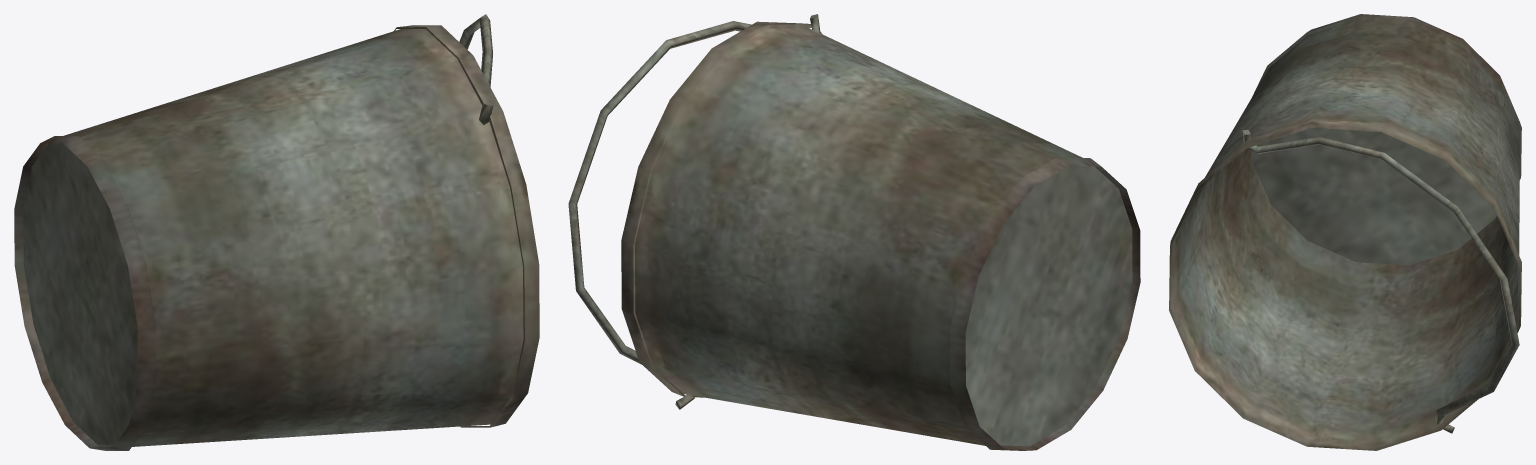
Rendered from prop_metal_pail3.glb.
3 renders of one model, left to right at view 1: azimuth 30°, elevation 25°; view 2: azimuth 150°, elevation 25°; view 3: azimuth 270°, elevation 25°, orthographic. The views are drawn at different scales.
Size of the model in its own units: 18.98 by 14.6 by 14.54.
Materials: 1 (1 with a texture image).
